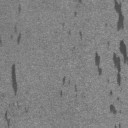red iron: (94, 0, 128, 86), (60, 76, 78, 96), (110, 104, 122, 128), (11, 64, 18, 94), (4, 110, 11, 128), (16, 32, 21, 44), (78, 30, 82, 40), (110, 91, 112, 96)
